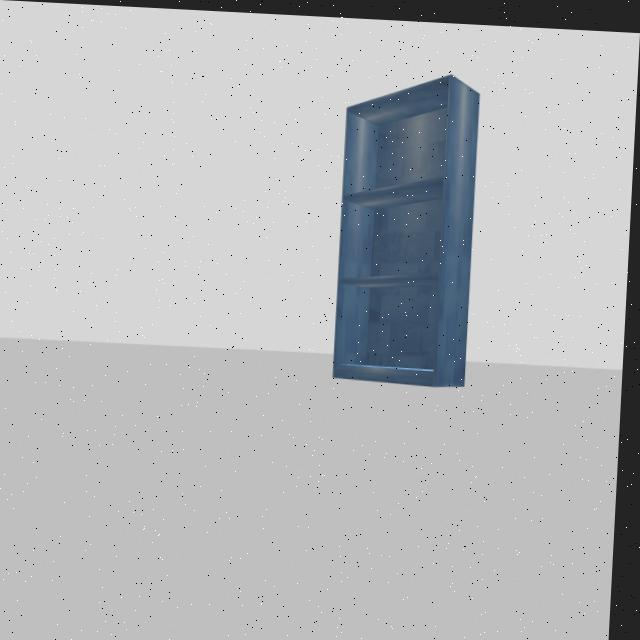shelf: (311, 50, 503, 406)
